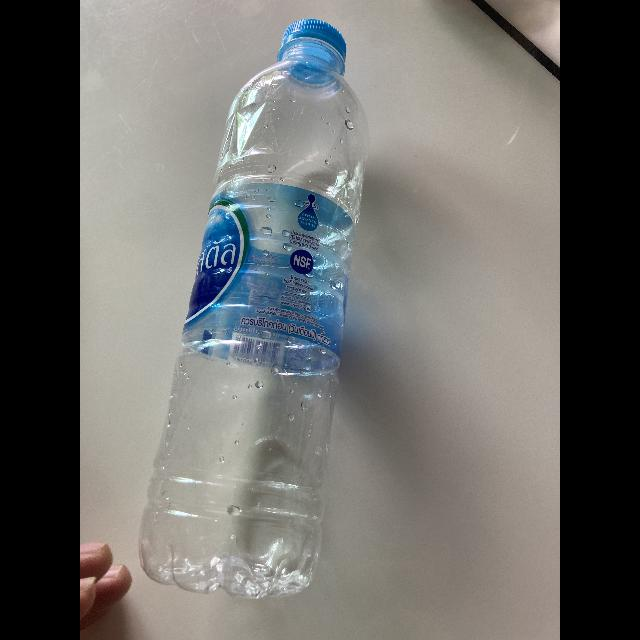plastic_bottle: (133, 12, 375, 604)
